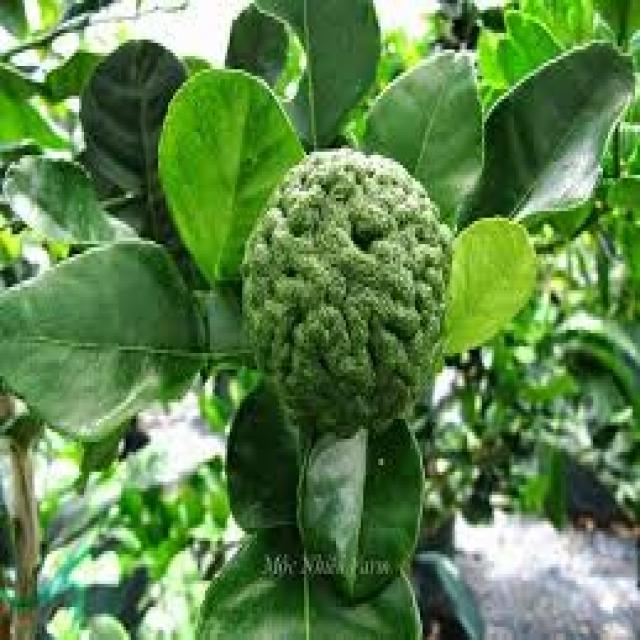Chuc: (237, 142, 452, 435)
